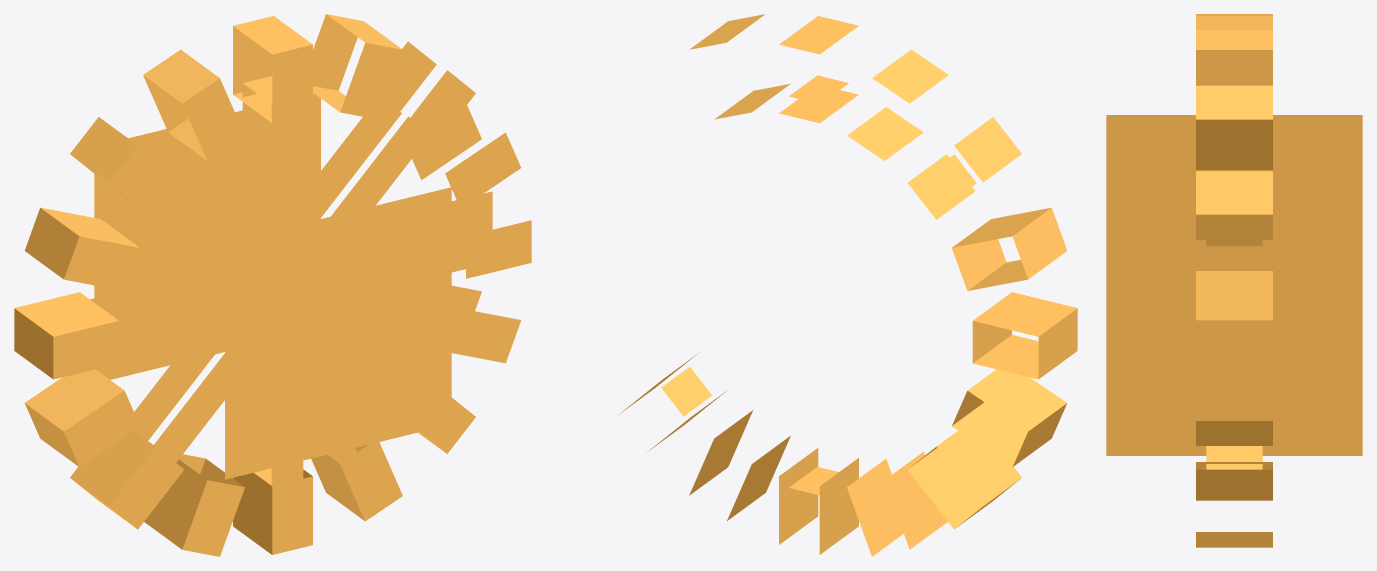
File: wall-drive.gltf
3 renders of one model, left to right at view 1: azimuth 30°, elevation 25°; view 2: azimuth 150°, elevation 25°; view 3: azimuth 270°, elevation 25°, orthographic.
Parts seen in each view (by area): view 1: wall-gear-0, wall-rod-0; view 2: wall-gear-0; view 3: wall-rod-0, wall-gear-0.
Boxes of the visible parts, <box> form: wall-gear-0: <box>14,14,531,556</box>; wall-rod-0: <box>94,93,451,479</box>; wall-gear-0: <box>619,14,1077,556</box>; wall-rod-0: <box>1106,115,1362,455</box>; wall-gear-0: <box>1180,14,1277,547</box>.
Size of the model in its own units: 2.11 by 2.11 by 1.
